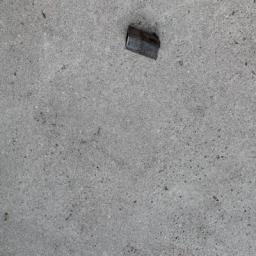FOD: (124, 21, 167, 66)
